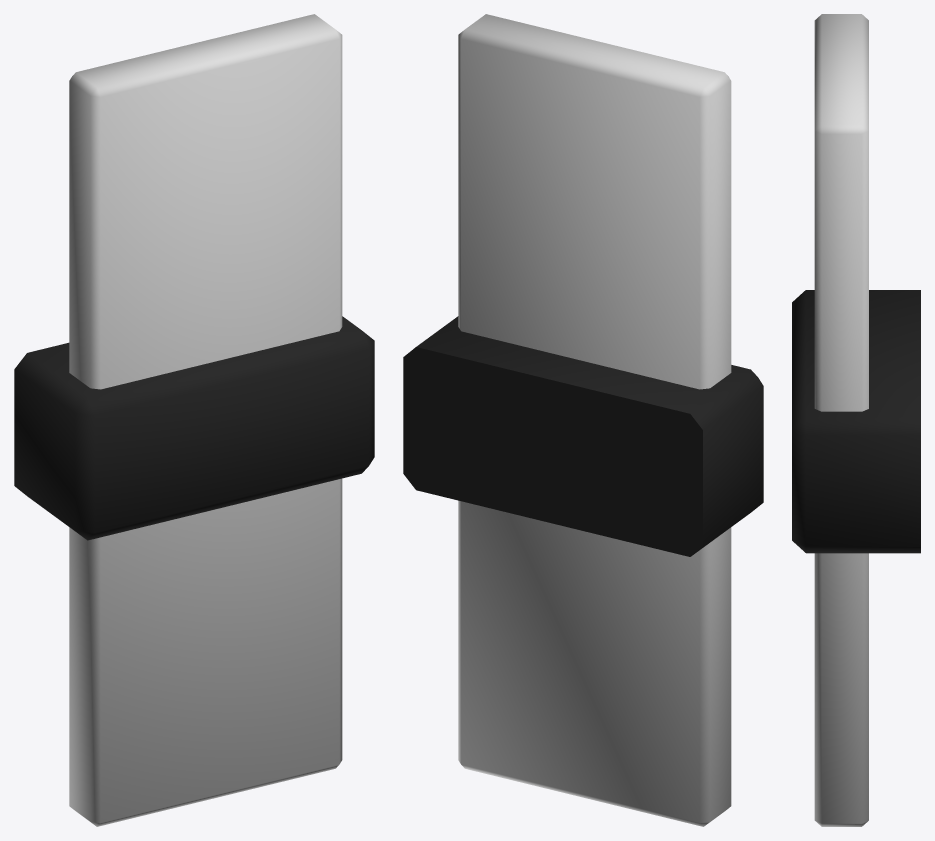
The model's file is lamp_013.fbx.
The picture shows the model from 3 angles, left to right: view 1: azimuth 30°, elevation 25°; view 2: azimuth 150°, elevation 25°; view 3: azimuth 270°, elevation 25°; orthographic projection. The views are drawn at different scales.
Visible parts, largest first — view 1: lamp_013; view 2: lamp_013; view 3: lamp_013.
Boxes of the visible parts, left/top/right/bottom form: lamp_013: left=14, top=14, right=374, bottom=826; lamp_013: left=403, top=14, right=763, bottom=826; lamp_013: left=792, top=14, right=920, bottom=826.
Bounding box in the file's own units: 25.75 × 10.11 × 60.74.
